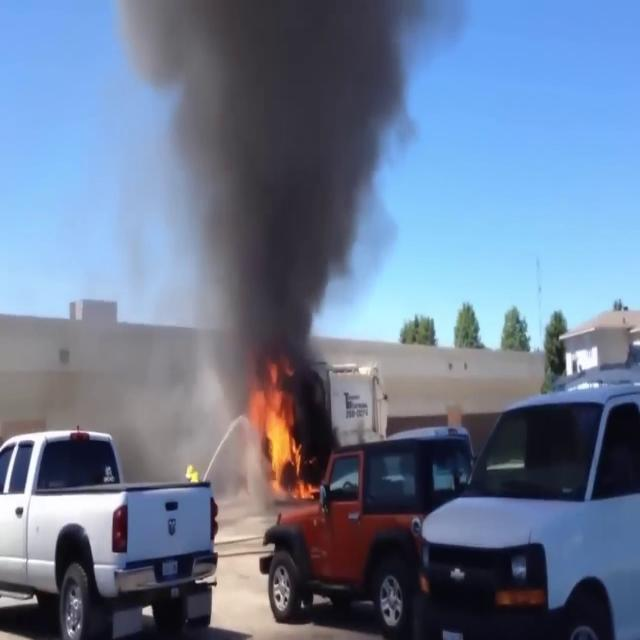Fire: (246, 366, 308, 498)
Smoke: (103, 1, 436, 360)
